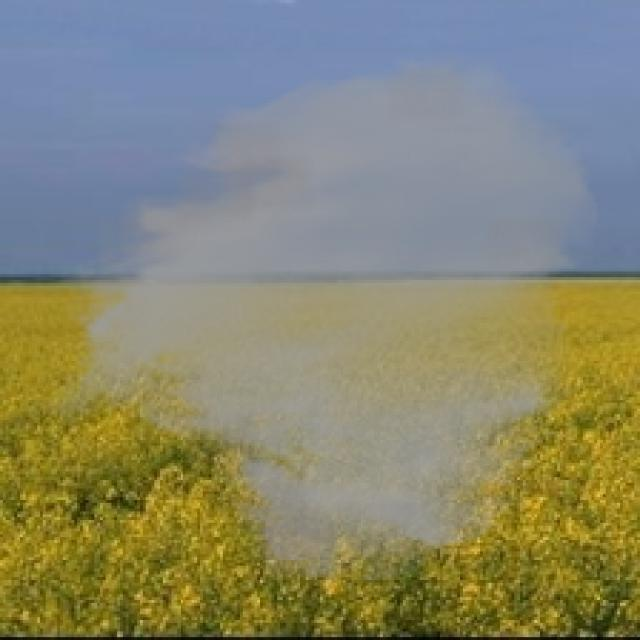Smoke: (46, 49, 603, 588)
